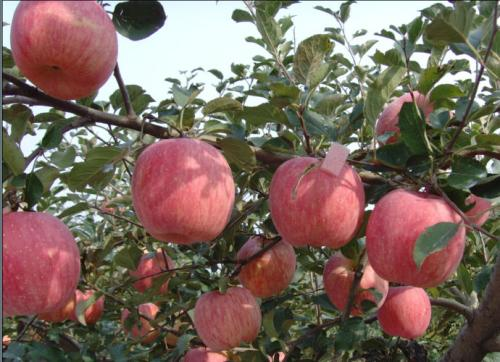apple: (131, 138, 237, 243), (12, 1, 119, 101), (4, 212, 80, 315), (193, 288, 262, 350)
obscured(0)_apple: (367, 187, 468, 287), (267, 156, 365, 248), (236, 232, 297, 297)
obscured(1)_apple: (323, 248, 389, 316)
